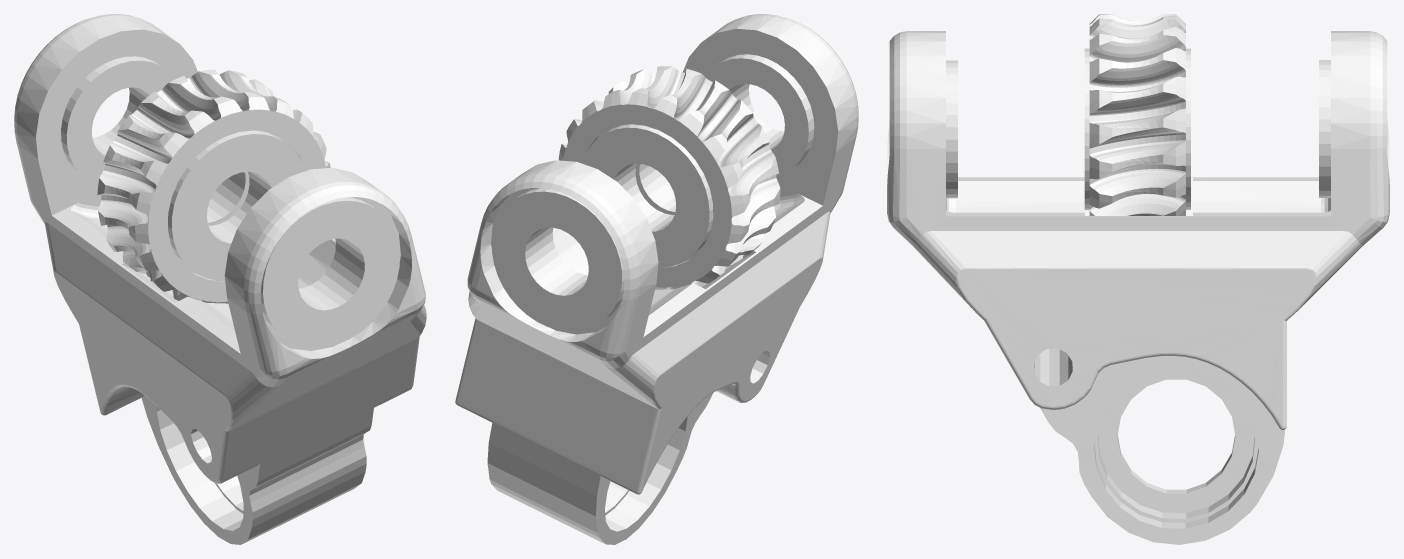
The model's file is lh_thumb_metacarpals_base2_vis.obj.
The picture shows the model from 3 angles, left to right: view 1: azimuth 30°, elevation 25°; view 2: azimuth 150°, elevation 25°; view 3: azimuth 270°, elevation 25°; orthographic projection. The views are drawn at different scales.
Parts seen in each view (by area): view 1: lh_thumb_metacarpals_base2; view 2: lh_thumb_metacarpals_base2; view 3: lh_thumb_metacarpals_base2.
Boxes of the visible parts, bbox=[...] form: lh_thumb_metacarpals_base2: bbox=[14, 14, 426, 544]; lh_thumb_metacarpals_base2: bbox=[455, 14, 858, 544]; lh_thumb_metacarpals_base2: bbox=[887, 14, 1389, 544].
Size of the model in its own units: 0.015 by 0.027 by 0.0256.
1 material, 1 textured.
